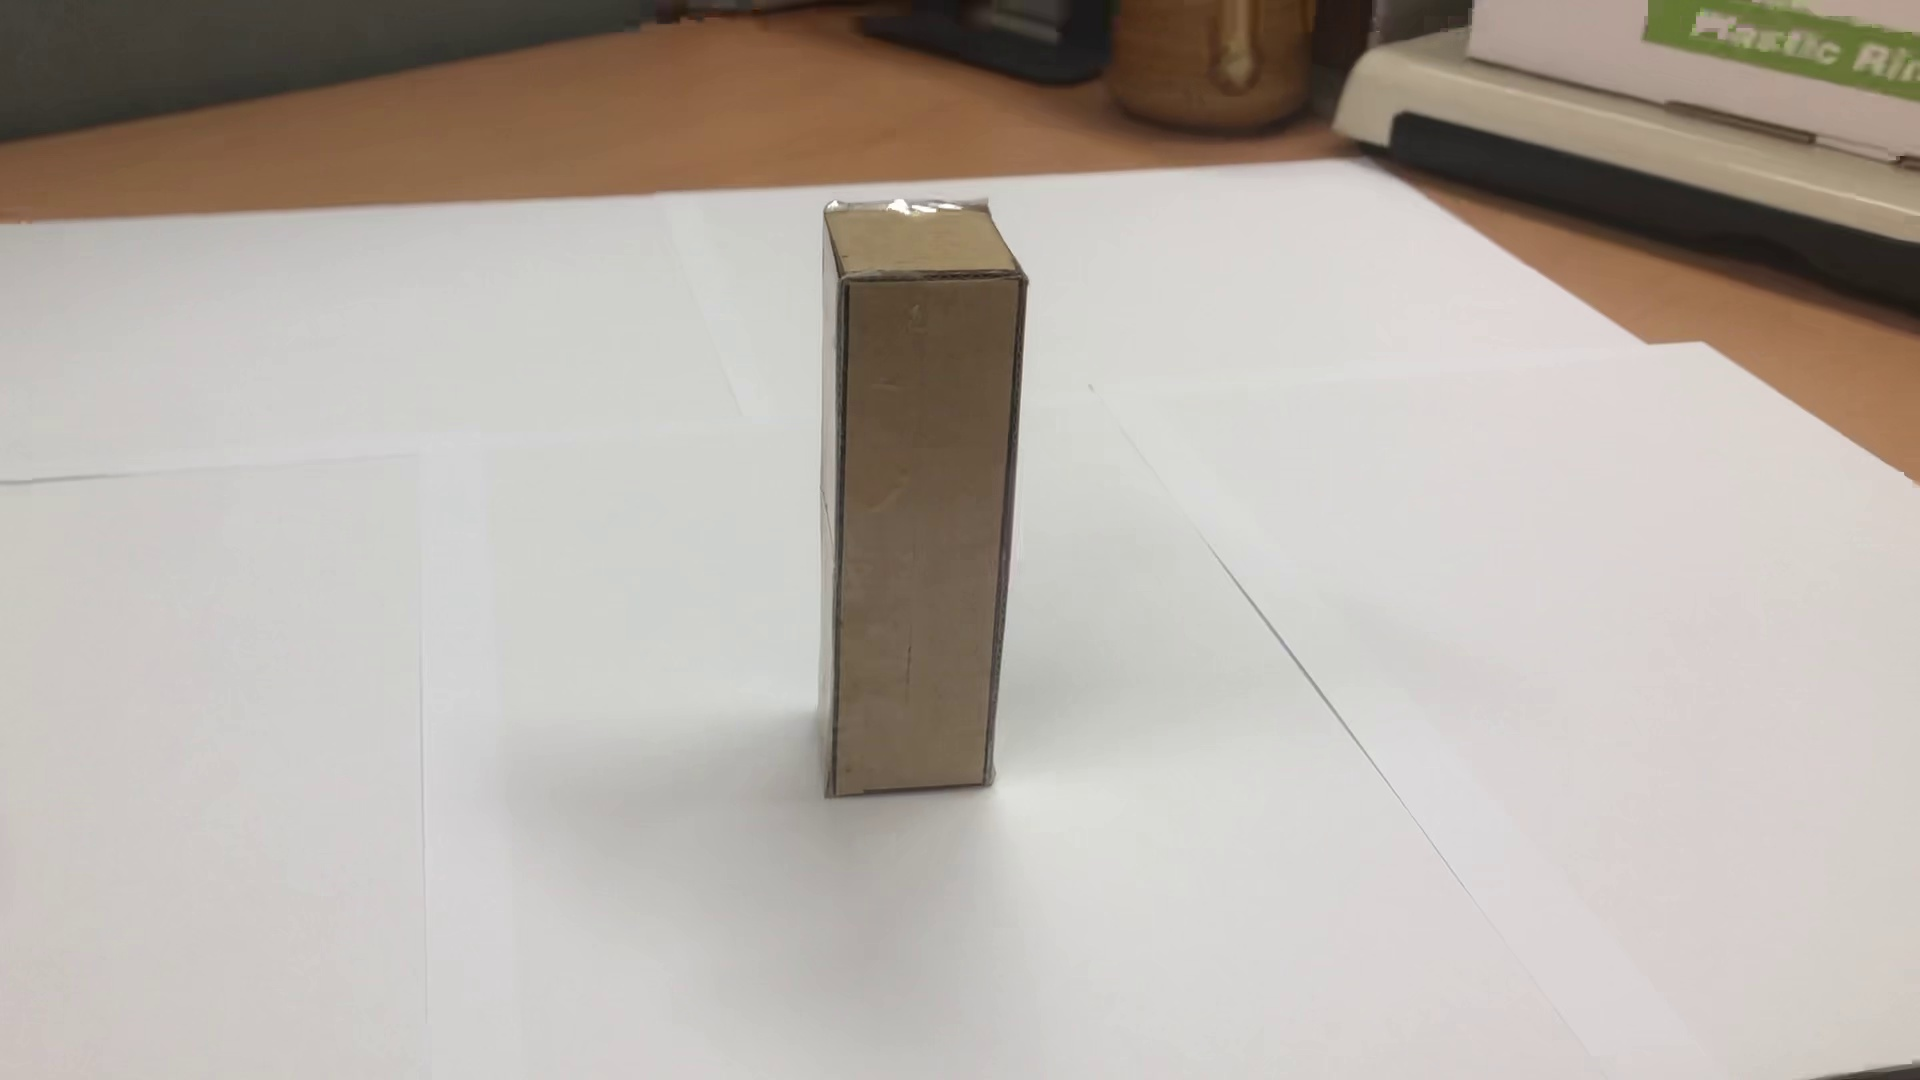box: (804, 193, 1055, 814)
